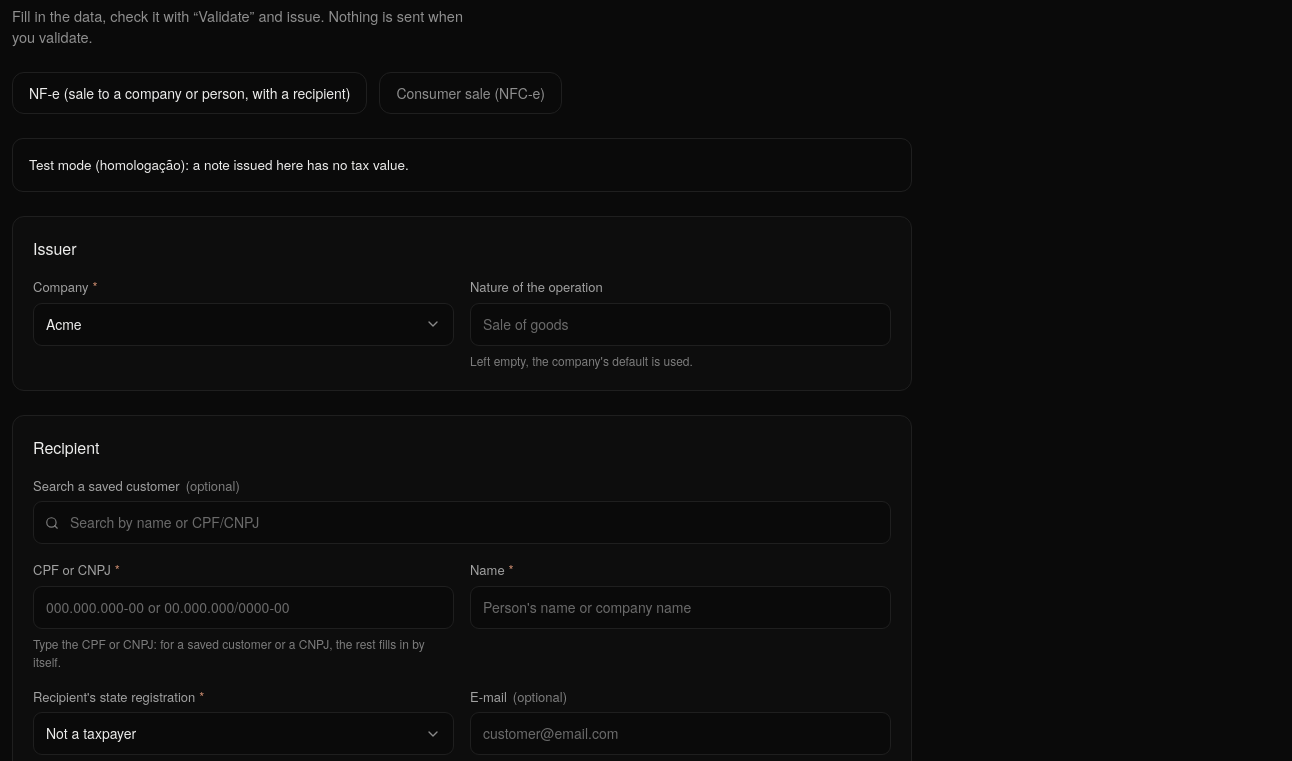
New NF-e / NFC-e page › chooser on top, NF-e first; picking the consumer sale shows the quick form
Check: the element named "Which note do you want to issue?" is shown, box [12,72,562,114]
Click the radio button labelled "Consumer sale (NFC-e)" at (471, 93), box [379,72,562,114]
(page scrolled)
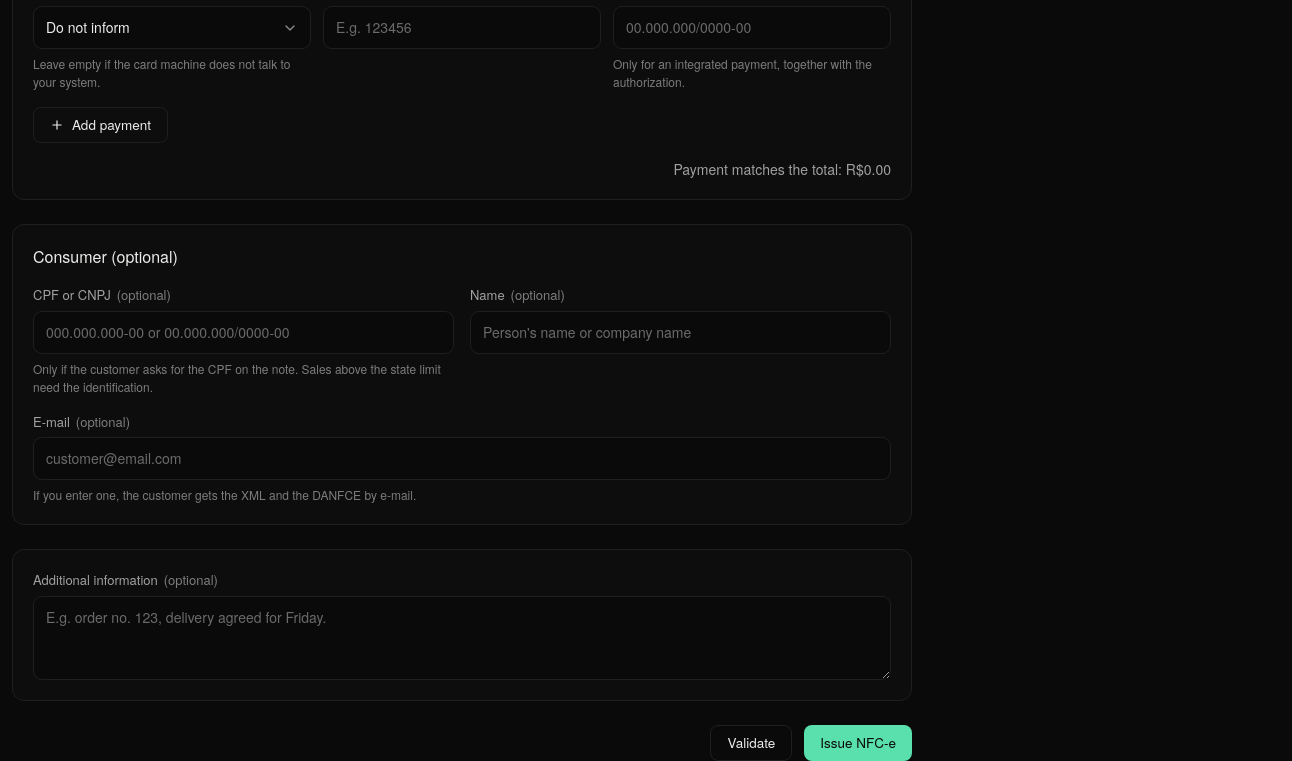
Check: the button "Issue NFC-e" is shown, box [804,725,912,760]
